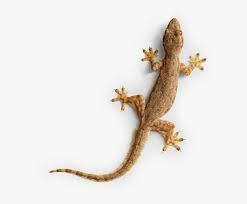lizard: (47, 5, 208, 183)
